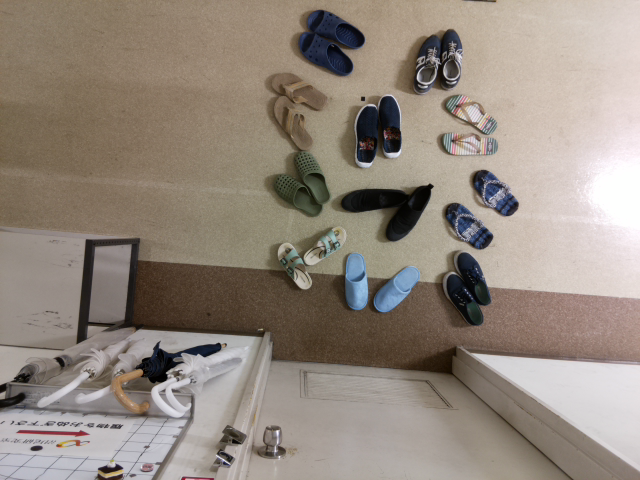Copy of Copy of Copy of Copy of Copy of Copy of Copy of Copy of Copy of Copy of: (381, 179, 436, 241), (369, 262, 425, 317), (441, 199, 495, 251), (450, 248, 494, 308), (442, 268, 486, 328), (273, 169, 323, 220), (372, 91, 406, 163), (349, 99, 383, 170), (337, 183, 409, 214), (274, 240, 315, 293), (300, 225, 347, 270), (340, 249, 372, 312)
Copy of Copy of Copy of Copy of Copy of Copy of Copy of Copy of Copy of shoe: (469, 164, 521, 221)
Copy of Copy of Copy of Copy of Copy of Copy of Copy of Copy of shoe: (438, 127, 500, 160)
Copy of Copy of Copy of Copy of Copy of Copy of Copy of shoe: (441, 89, 502, 138)
Copy of Copy of Copy of Copy of Copy of Copy of shoe: (433, 25, 468, 92)
Copy of Copy of Copy of Copy of Copy of shoe: (410, 30, 444, 97)
Copy of Copy of Copy of Copy of shoe: (302, 8, 369, 53)
Copy of Copy of Copy of shoe: (294, 30, 355, 79)
Copy of Copy of shoe: (271, 69, 329, 113)
Copy of shoe: (272, 94, 313, 156)
shoe: (291, 146, 332, 209)
